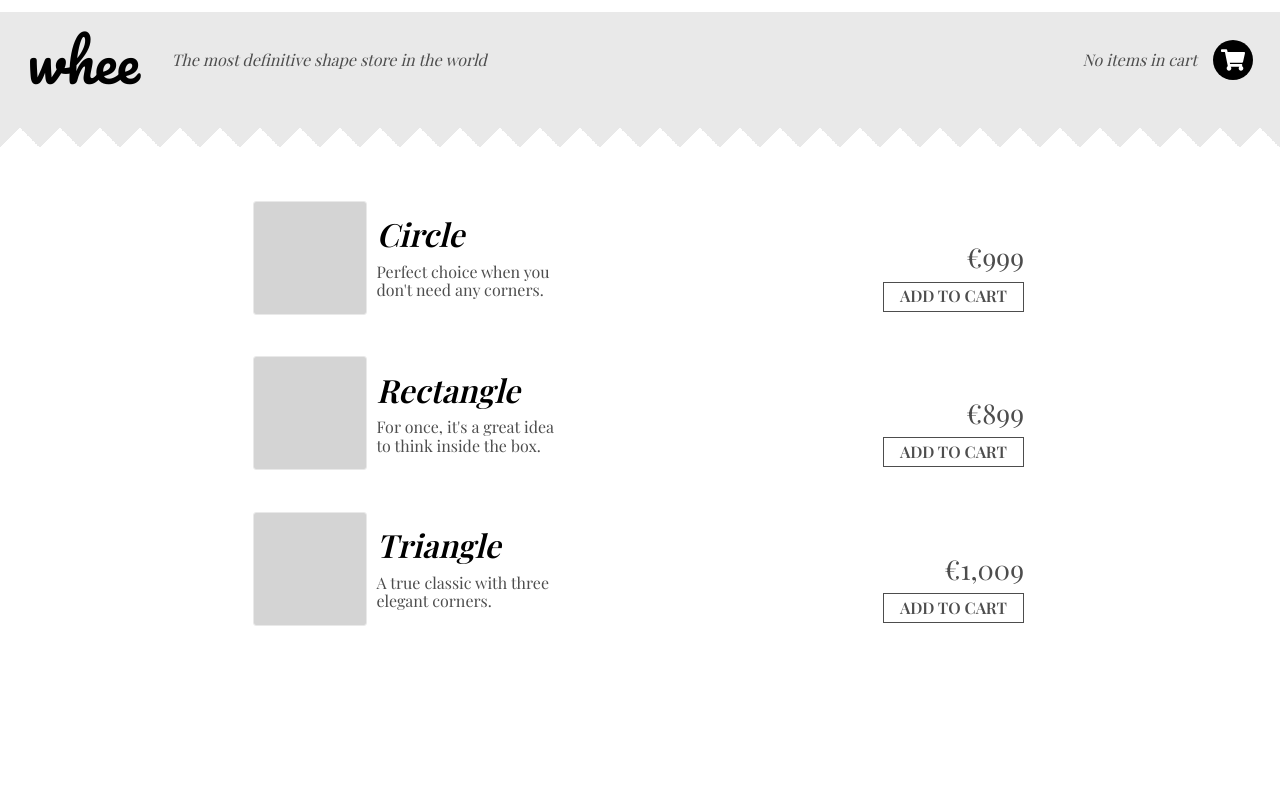
it: Product view › should have working navigation
expect the number of buttons "ADD TO CART" is 3: met, box [883,282,1024,312]; [883,437,1024,467]; [883,593,1024,623]
Click the link named "shopping cart" at coordinates (1233, 60), box [1213,40,1253,80]
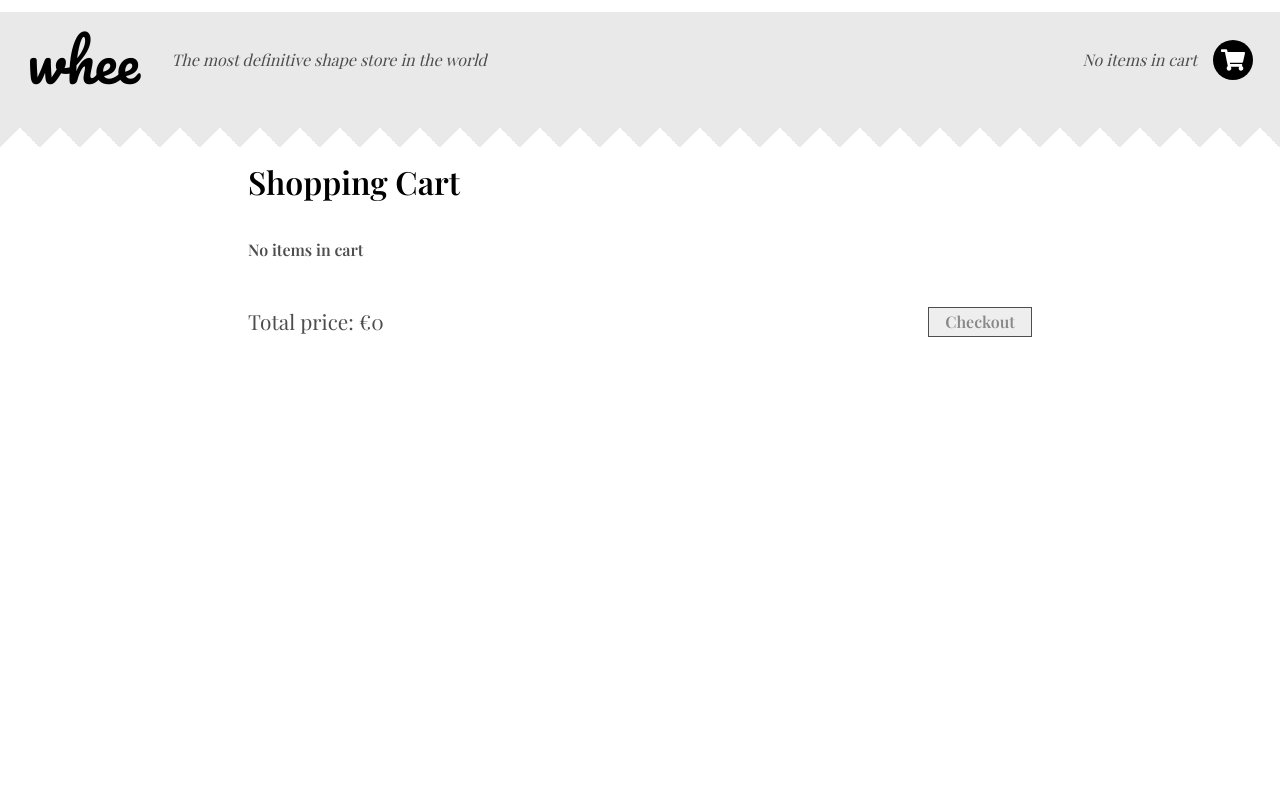
expect the heading "Shopping Cart" is shown: met, box [248,160,460,203]
expect the button "ADD TO CART" is gone: met
expect the button "Checkout" is shown: met, box [928,307,1032,337]
